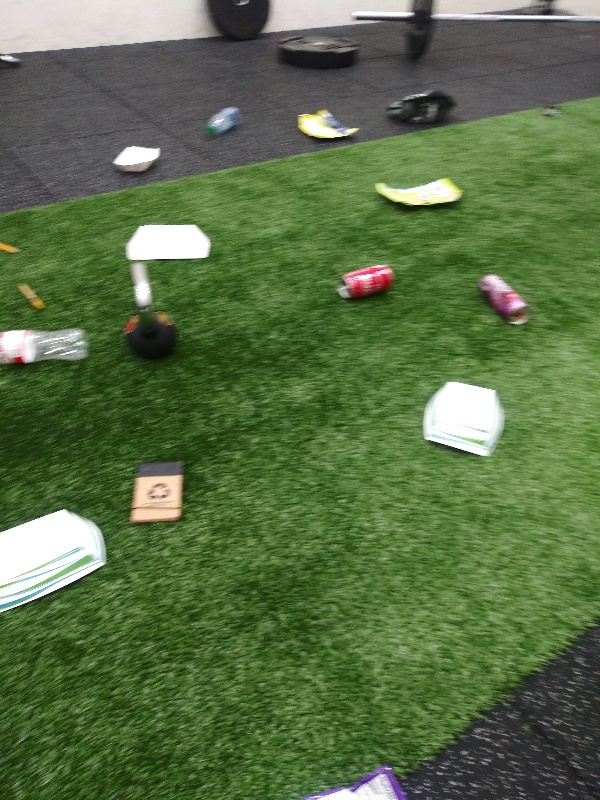bag: (293, 765, 419, 800), (372, 172, 467, 211), (291, 108, 362, 143)
bottle: (1, 327, 96, 365), (202, 101, 248, 140)
can: (472, 268, 530, 329), (333, 260, 400, 304)
plate: (1, 503, 116, 621), (419, 377, 511, 466), (119, 219, 219, 266), (110, 144, 165, 175)
